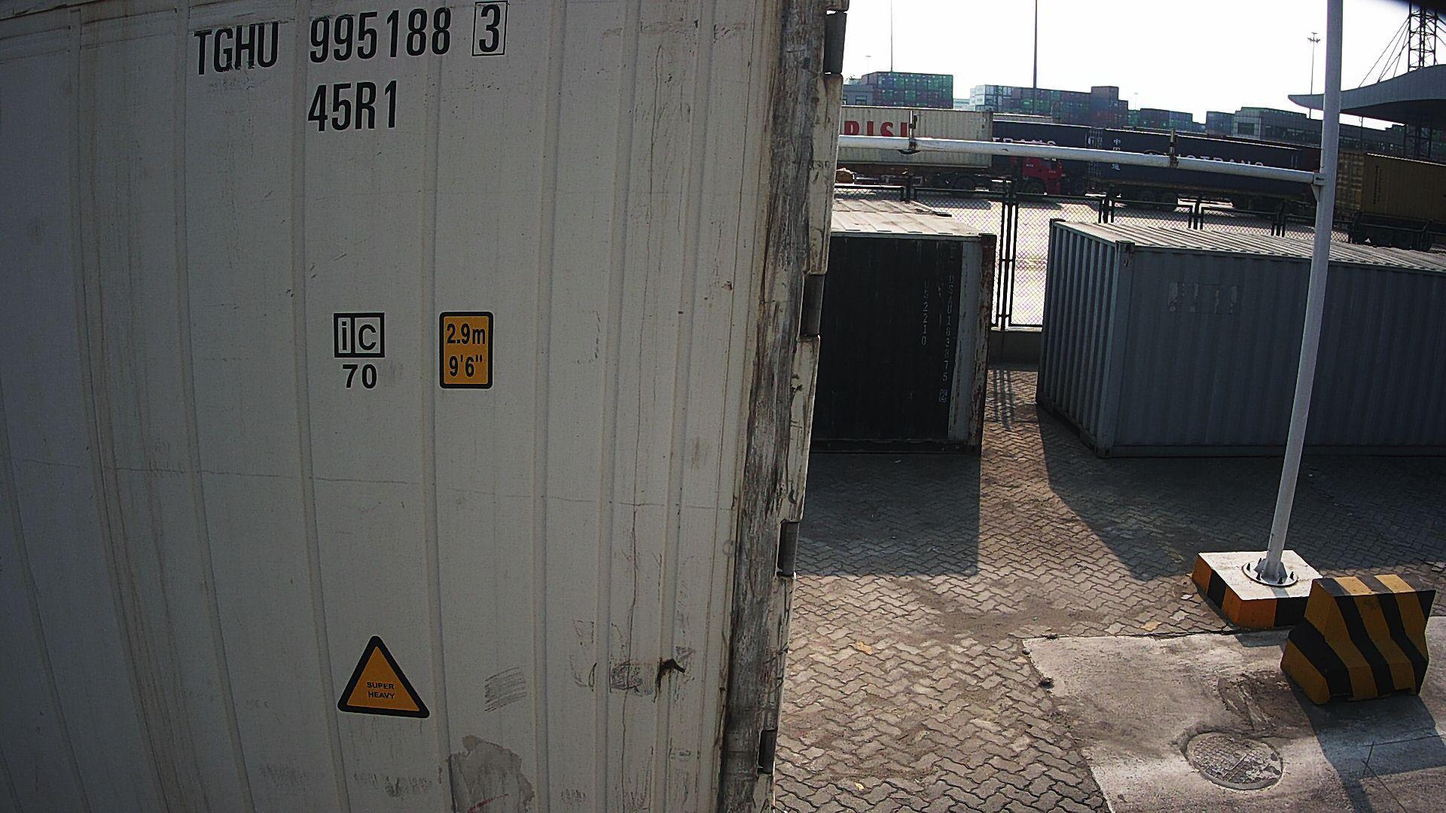container-numbers: (191, 0, 513, 77), (304, 76, 405, 136)
